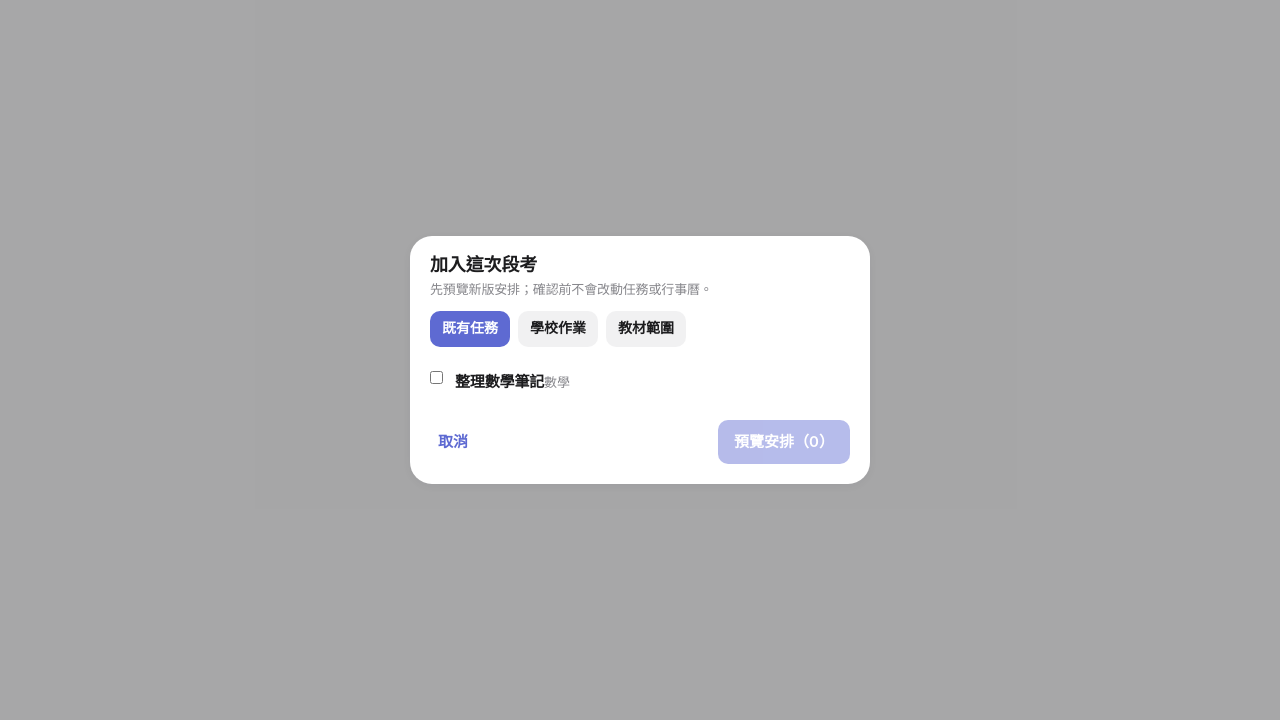
Test: PlanContentPicker › 學校作業與已在其他 Plan 的任務分開，不能誤選
What coordinates should you click on to do the following:
click the button "學校作業"
I would click on:
 (558, 329)
Its box is x1=518 y1=311 x2=598 y2=347.
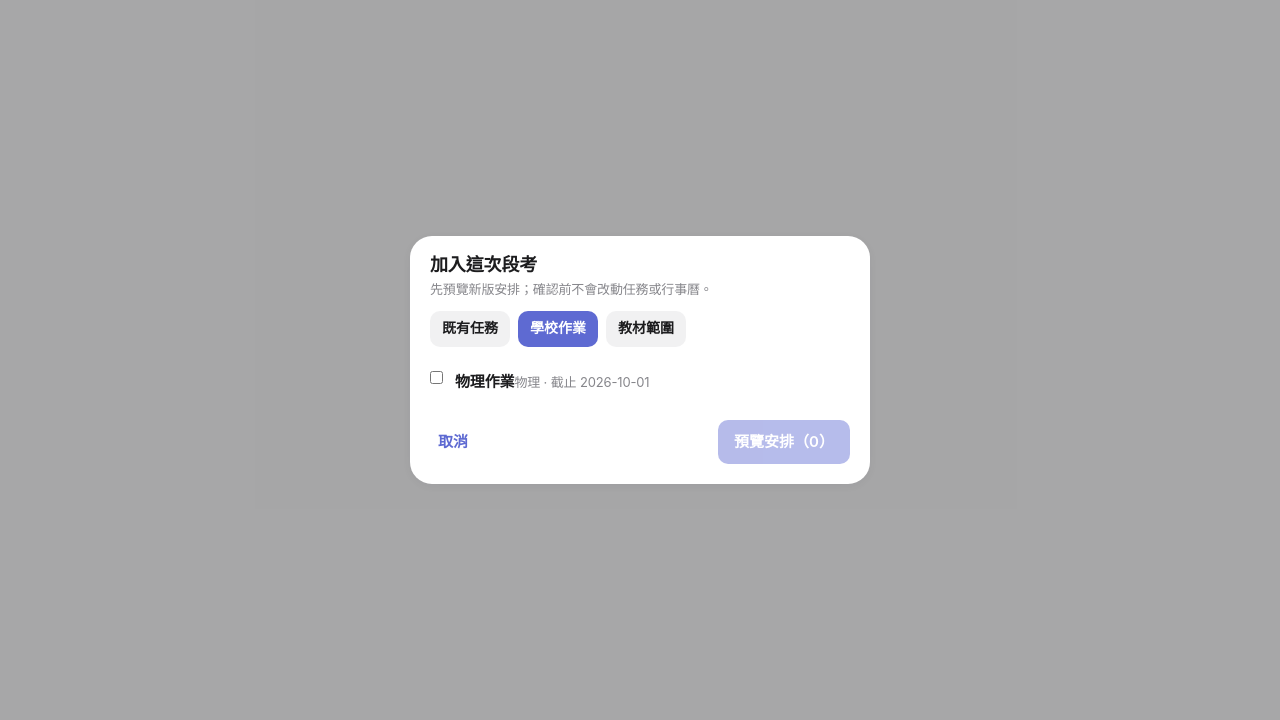
Expected: the text "物理作業" is shown, x1=455 y1=372 x2=514 y2=391
